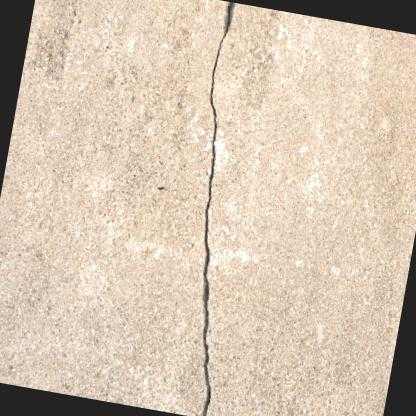crack: (201, 0, 234, 416)
